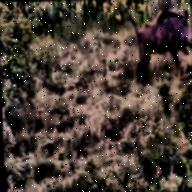boar: (130, 8, 192, 90)
